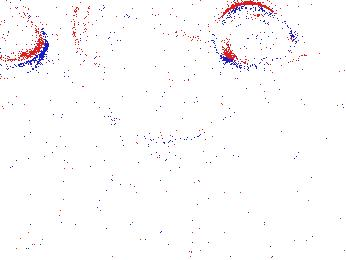moon jellyfish: (103, 32, 233, 142), (72, 1, 149, 65), (213, 3, 293, 64), (263, 52, 346, 108), (1, 1, 47, 79)
